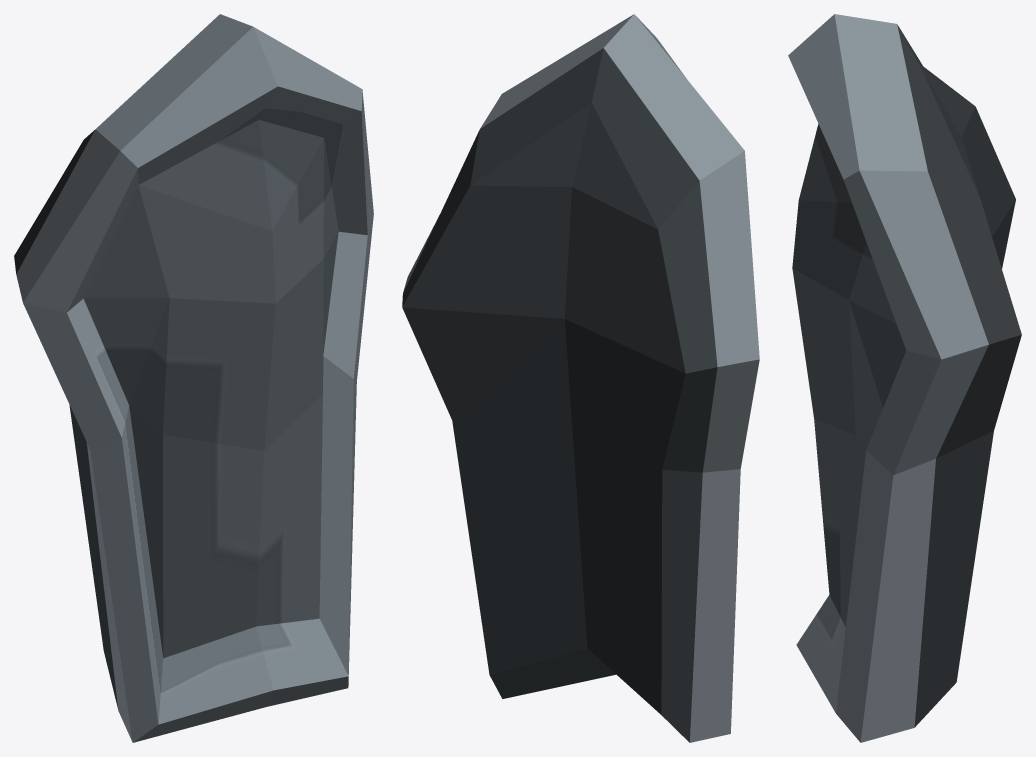
Rendered from SM_Chr_Attach_Armour_Light_Leg_L_01.fbx.
The picture shows the model from 3 angles, left to right: view 1: azimuth 30°, elevation 25°; view 2: azimuth 150°, elevation 25°; view 3: azimuth 270°, elevation 25°; orthographic projection. The views are drawn at different scales.
Visible parts, largest first — view 1: SM_Chr_Attach_Armour_Light_Leg_L_01; view 2: SM_Chr_Attach_Armour_Light_Leg_L_01; view 3: SM_Chr_Attach_Armour_Light_Leg_L_01.
Boxes of the visible parts, x1,y1,x2,y2 form: SM_Chr_Attach_Armour_Light_Leg_L_01: [14, 14, 373, 742]; SM_Chr_Attach_Armour_Light_Leg_L_01: [402, 14, 759, 742]; SM_Chr_Attach_Armour_Light_Leg_L_01: [788, 14, 1021, 742].
Bounding box in the file's own units: 9.46 × 17.78 × 5.56.
